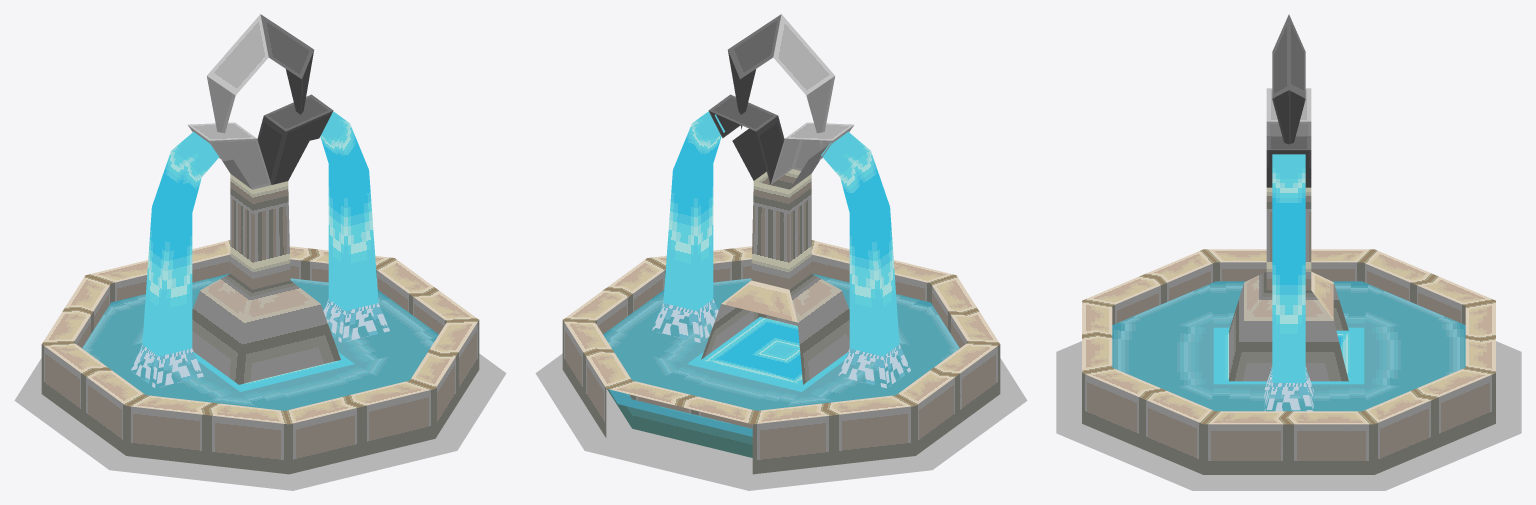
The picture shows the model from 3 angles, left to right: view 1: azimuth 30°, elevation 25°; view 2: azimuth 150°, elevation 25°; view 3: azimuth 270°, elevation 25°; orthographic projection.
Parts seen in each view (by area): view 1: polygon3, polygon0, polygon2, polygon5, polygon1; view 2: polygon3, polygon0, polygon2, polygon5, polygon1; view 3: polygon3, polygon0, polygon5, polygon2, polygon1.
Boxes of the visible parts, <box> form: polygon3: <box>41,174,479,474</box>; polygon0: <box>82,111,438,410</box>; polygon2: <box>188,14,340,384</box>; polygon5: <box>14,353,506,490</box>; polygon1: <box>131,299,389,387</box>; polygon3: <box>562,169,1000,474</box>; polygon0: <box>603,111,959,436</box>; polygon2: <box>701,14,853,384</box>; polygon5: <box>535,353,1027,490</box>; polygon1: <box>652,299,910,388</box>; polygon3: <box>1082,187,1495,474</box>; polygon0: <box>1112,154,1465,411</box>; polygon5: <box>1056,341,1521,490</box>; polygon2: <box>1229,14,1348,381</box>; polygon1: <box>1264,366,1313,411</box>.
Bounding box in the file's own units: 5.2 × 4.66 × 5.2.
